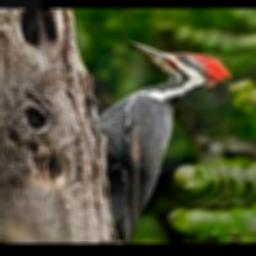Woodpecker: (95, 40, 231, 243)
